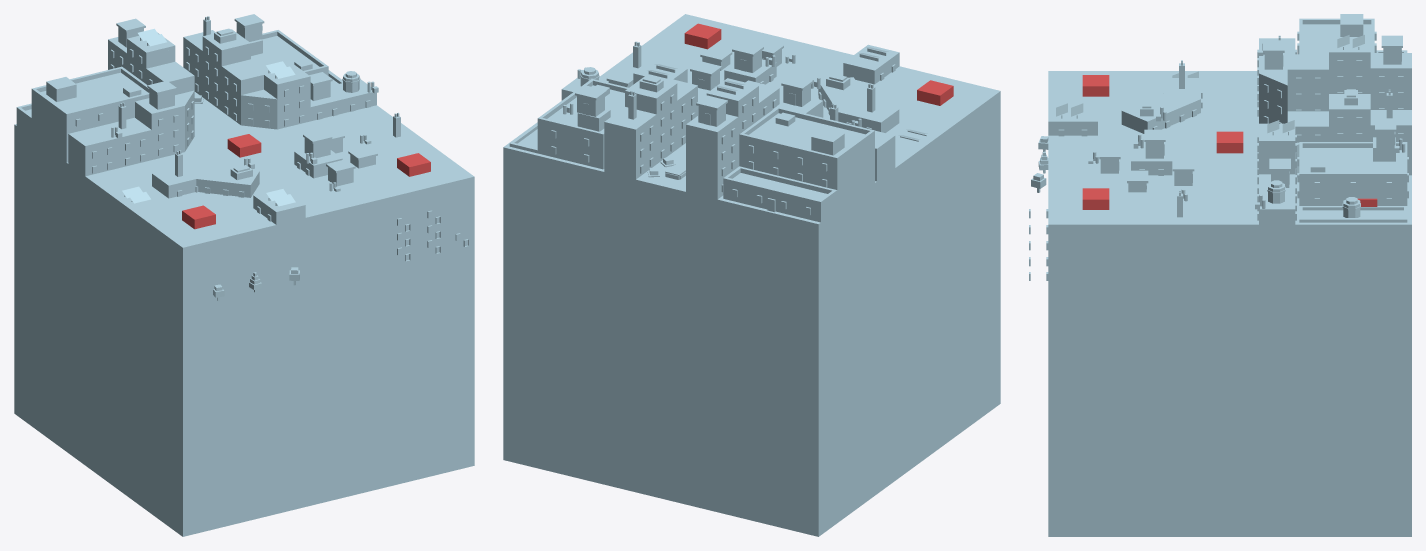
The model's file is block_16_sewersystem_100.glb.
3 views of the same model, side by side, from view 1: azimuth 30°, elevation 25°; view 2: azimuth 150°, elevation 25°; view 3: azimuth 270°, elevation 25° (orthographic). The views are drawn at different scales.
Parts seen in each view (by area): view 1: Patch_MidRight_b18_SL, Cerda_MidRight_b18_SL, Insets_MidRight_b18_SL, CerdaRoofProps_MidRight_b18_SL, SL_Net_16, Green_MidRight_b18_SL; view 2: Patch_MidRight_b18_SL, Cerda_MidRight_b18_SL, Insets_MidRight_b18_SL, CerdaRoofProps_MidRight_b18_SL, SL_Net_16; view 3: Patch_MidRight_b18_SL, Cerda_MidRight_b18_SL, Insets_MidRight_b18_SL, CerdaRoofProps_MidRight_b18_SL, SL_Net_16.
Boxes of the visible parts, x1,y1,x2,y2 form: Patch_MidRight_b18_SL: [14, 70, 474, 536]; Cerda_MidRight_b18_SL: [68, 29, 380, 288]; Insets_MidRight_b18_SL: [16, 30, 468, 273]; CerdaRoofProps_MidRight_b18_SL: [111, 14, 400, 206]; SL_Net_16: [182, 134, 430, 229]; Green_MidRight_b18_SL: [121, 263, 286, 311]; Patch_MidRight_b18_SL: [503, 14, 1000, 536]; Cerda_MidRight_b18_SL: [561, 44, 942, 215]; Insets_MidRight_b18_SL: [509, 79, 874, 244]; CerdaRoofProps_MidRight_b18_SL: [563, 40, 927, 141]; SL_Net_16: [684, 23, 953, 105]; Patch_MidRight_b18_SL: [1048, 71, 1411, 536]; Cerda_MidRight_b18_SL: [1048, 37, 1411, 293]; Insets_MidRight_b18_SL: [1029, 14, 1408, 280]; CerdaRoofProps_MidRight_b18_SL: [1056, 35, 1405, 217]; SL_Net_16: [1082, 75, 1377, 209].
Size of the model in its own units: 9.5 by 11.58 by 10.
